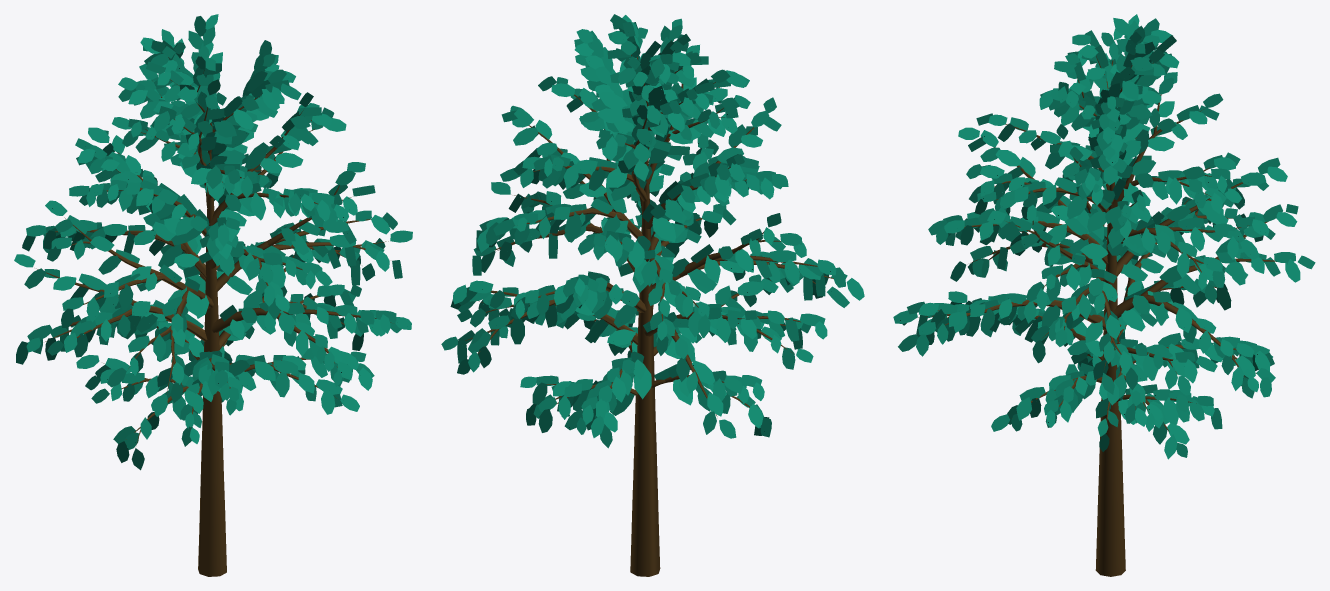
Rendered from simpleTreeSmooth.fbx.
3 renders of one model, left to right at view 1: azimuth 30°, elevation 25°; view 2: azimuth 150°, elevation 25°; view 3: azimuth 270°, elevation 25°, orthographic. The views are drawn at different scales.
Visible parts, largest first — view 1: simpleTree; view 2: simpleTree; view 3: simpleTree.
Part boxes in pixels (x1,y1,x2,y2): simpleTree: (14, 14, 412, 576); simpleTree: (441, 14, 864, 576); simpleTree: (893, 14, 1315, 576).
Size of the model in its own units: 390 by 580 by 407.
